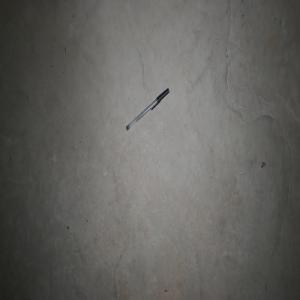Pen: (126, 87, 169, 130)
